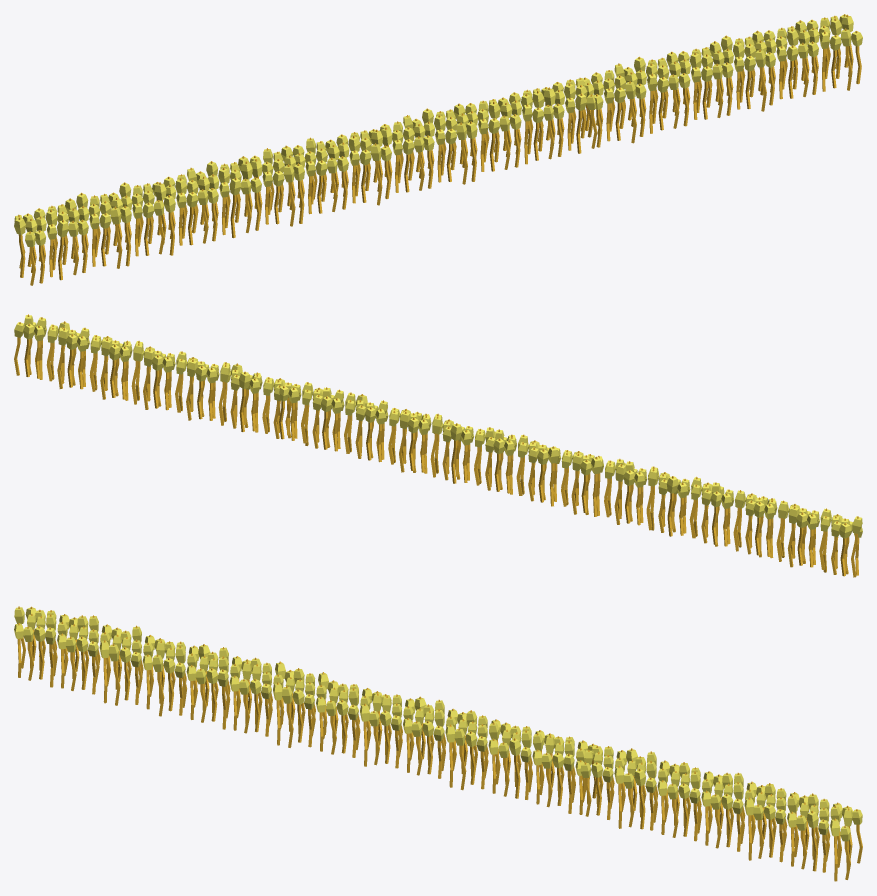
The model's file is GrupoTrigalPequeño.fbx.
3 views of the same model, one above another, from view 1: azimuth 30°, elevation 25°; view 2: azimuth 150°, elevation 25°; view 3: azimuth 330°, elevation 25° (orthographic).
Parts seen in each view (by area): view 1: Cube.770; view 2: Cube.770; view 3: Cube.770.
Boxes of the visible parts, x1,y1,x2,y2 form: Cube.770: [14, 14, 862, 285]; Cube.770: [14, 314, 862, 577]; Cube.770: [14, 606, 862, 881].
Size of the model in its own units: 7149 by 594 by 265.
